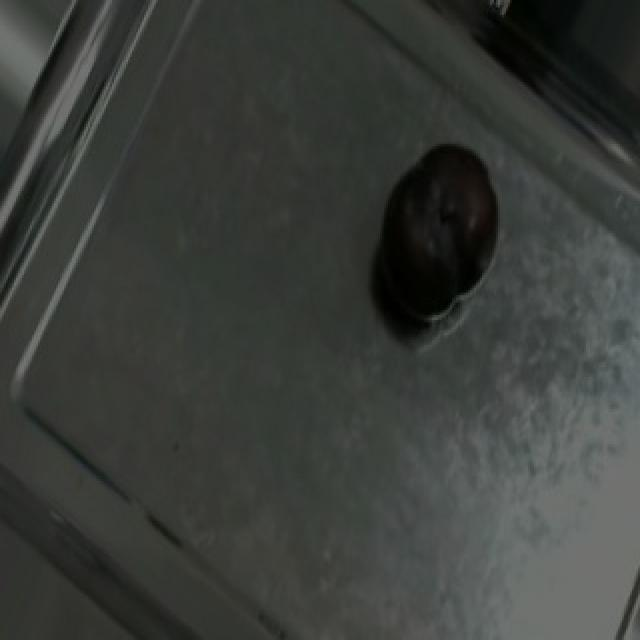Fruit: (362, 124, 520, 325)
